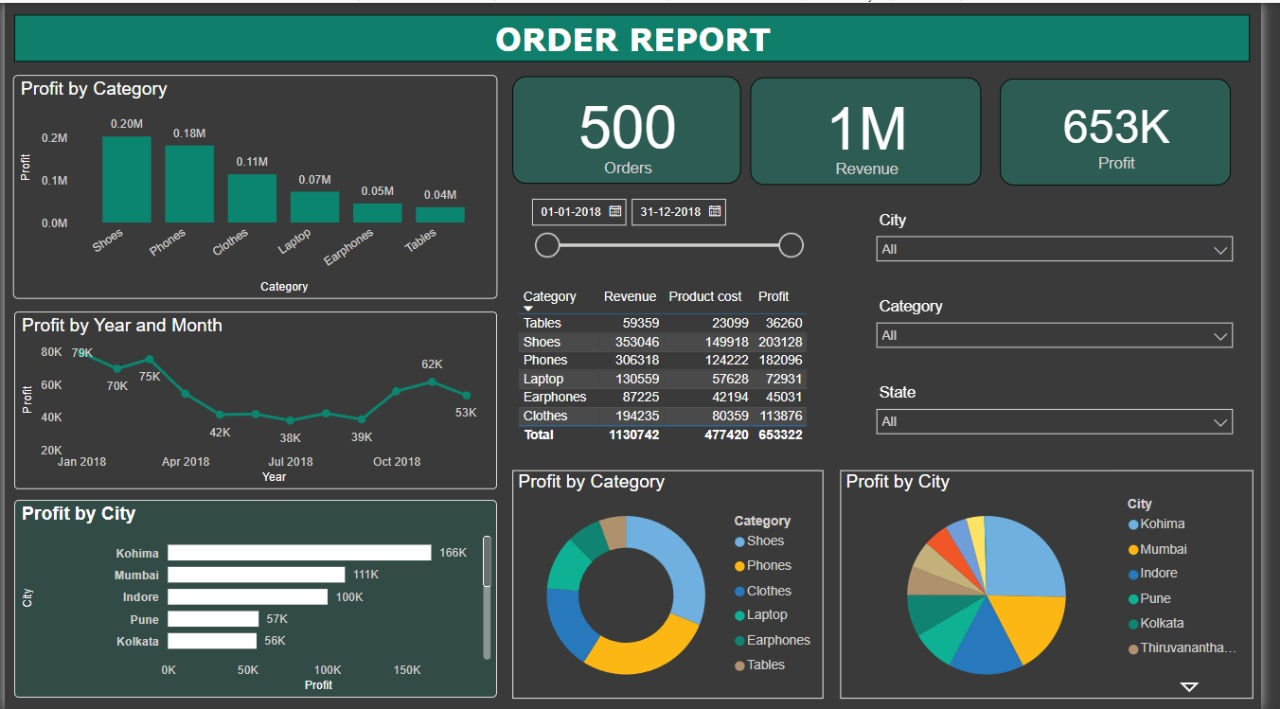

This screenshot's page, from the dashboard's own definition file:
{"tool":"powerbi","page":{"name":"Page 1","canvas":[1280,720],"ordinal":0},"visuals":[{"type":"textbox","box":[9.6,12.1,1259.1,48.2],"z":0},{"type":"card","fields":{"Values":["CountNonNull(Orders.Order ID)"]},"box":[517.4,74.8,232.8,109.7],"z":1000},{"type":"card","fields":{"Values":["Sum(Orders.order_total)"]},"box":[759.8,76,235.2,109.7],"z":2000},{"type":"card","fields":{"Values":["Sum(Orders.Profit)"]},"box":[1014.3,77.2,235.2,108.5],"z":3000},{"type":"lineChart","fields":{"Category":["Orders.Order Date.Variation.Date Hierarchy.Year","Orders.Order Date.Variation.Date Hierarchy.Month"],"Y":["Sum(Orders.Profit)"]},"box":[9.6,314.8,492.1,180.9],"z":4000},{"type":"clusteredBarChart","fields":{"Category":["Orders.City"],"Y":["Sum(Orders.Profit)"]},"box":[9.6,506.5,492.1,201.4],"z":5000},{"type":"clusteredColumnChart","fields":{"Category":["Orders.Category"],"Y":["Sum(Orders.Profit)"]},"box":[8.4,73.6,493.3,227.9],"z":6000},{"type":"pieChart","fields":{"Y":["Sum(Orders.Profit)"],"Category":["Orders.City"]},"box":[851.5,476.4,420.9,232.8],"z":7000},{"type":"donutChart","fields":{"Y":["Sum(Orders.Profit)"],"Category":["Orders.Category"]},"box":[517.4,476.4,317.2,232.8],"z":8000},{"type":"tableEx","fields":{"Values":["Orders.Category","Sum(Orders.order_total)","Sum(Orders.Product cost)","Sum(Orders.Profit)"]},"box":[517.4,285.8,317.2,176.1],"z":9000},{"type":"slicer","fields":{"Values":["Orders.Order Date"]},"box":[524.6,189.3,297.9,80.8],"z":9001},{"type":"slicer","fields":{"Values":["Orders.City"]},"box":[878,207.4,383.5,78.4],"z":9002},{"type":"slicer","fields":{"Values":["Orders.Category"]},"box":[878,295.5,383.5,78.4],"z":9003},{"type":"slicer","fields":{"Values":["Orders.State"]},"box":[878,383.5,383.5,78.4],"z":9004}]}

Visuals, with their boxes in screenshot pixels (x1, y1, x2, y2), scaled from the page's 1280x720 canvas onto the 1280x709 screenshot:
textbox: left=10, top=12, right=1269, bottom=59
card - CountNonNull(Orders.Order ID): left=517, top=74, right=750, bottom=182
card - Sum(Orders.order_total): left=760, top=75, right=995, bottom=183
card - Sum(Orders.Profit): left=1014, top=76, right=1250, bottom=183
lineChart - Orders.Order Date.Variation.Date Hierarchy.Year x Orders.Order Date.Variation.Date Hierarchy.Month: left=10, top=310, right=502, bottom=488
clusteredBarChart - Orders.City x Sum(Orders.Profit): left=10, top=499, right=502, bottom=697
clusteredColumnChart - Orders.Category x Sum(Orders.Profit): left=8, top=72, right=502, bottom=297
pieChart - Sum(Orders.Profit) x Orders.City: left=852, top=469, right=1272, bottom=698
donutChart - Sum(Orders.Profit) x Orders.Category: left=517, top=469, right=835, bottom=698
tableEx - Orders.Category x Sum(Orders.order_total): left=517, top=281, right=835, bottom=455
slicer - Orders.Order Date: left=525, top=186, right=822, bottom=266
slicer - Orders.City: left=878, top=204, right=1262, bottom=281
slicer - Orders.Category: left=878, top=291, right=1262, bottom=368
slicer - Orders.State: left=878, top=378, right=1262, bottom=455
